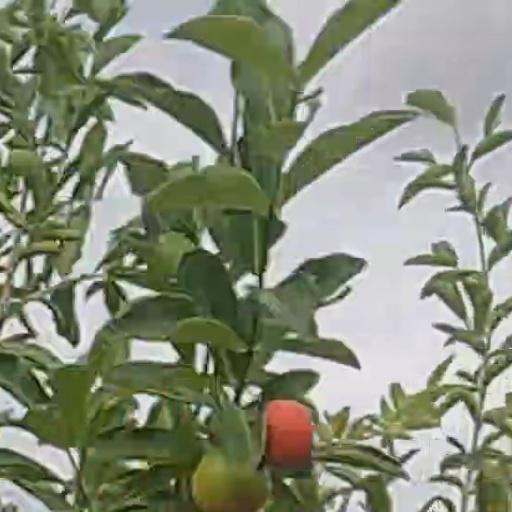acerola: (195, 454, 263, 509), (267, 401, 311, 465)
